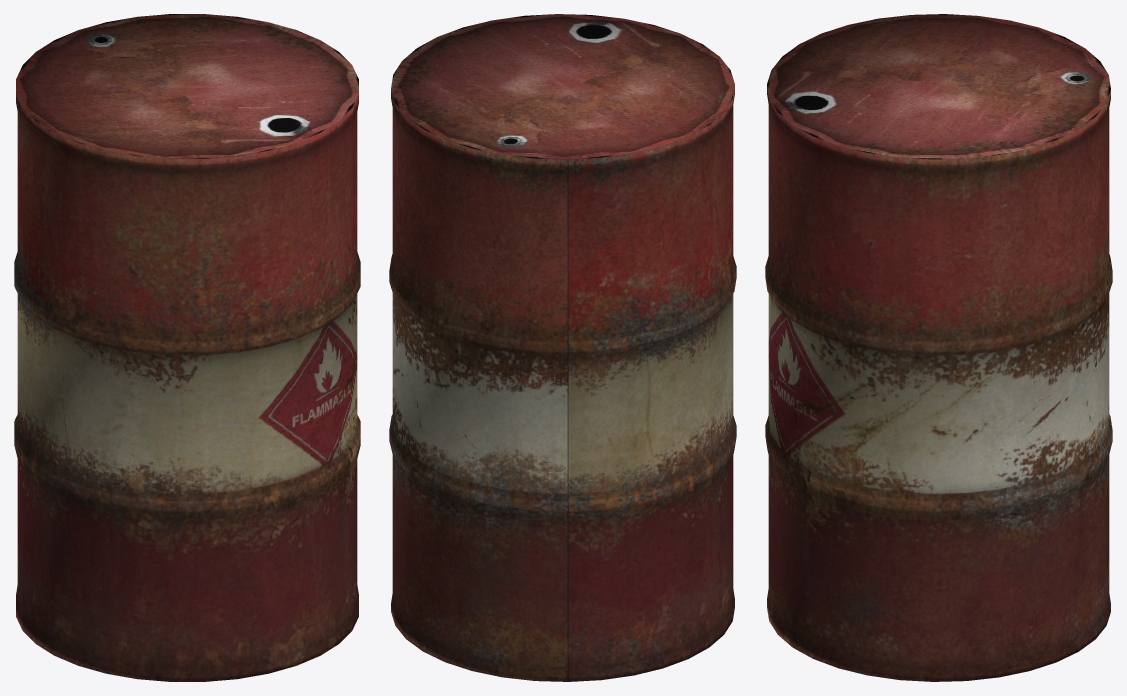
Rendered from oildrum.obj.
The picture shows the model from 3 angles, left to right: view 1: azimuth 30°, elevation 25°; view 2: azimuth 150°, elevation 25°; view 3: azimuth 270°, elevation 25°; orthographic projection.
Visible parts, largest first — view 1: default; view 2: default; view 3: default.
Part boxes in pixels (bbox=[...]): default: bbox=[14, 14, 360, 681]; default: bbox=[389, 14, 736, 681]; default: bbox=[765, 14, 1112, 681].
Bounding box in the file's own units: 4.18 × 6.94 × 4.18.
